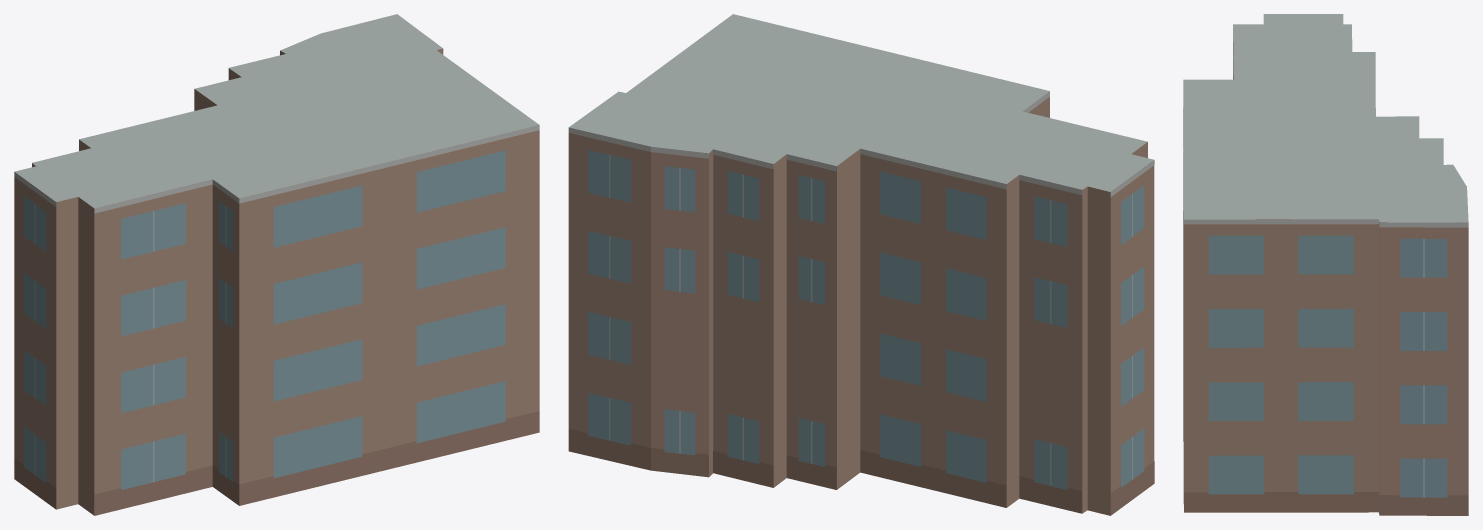
Rendered from survey-upis-32757484.glb.
The picture shows the model from 3 angles, left to right: view 1: azimuth 30°, elevation 25°; view 2: azimuth 150°, elevation 25°; view 3: azimuth 270°, elevation 25°; orthographic projection. The views are drawn at different scales.
Parts seen in each view (by area): view 1: survey-upis-32757484.tmp; view 2: survey-upis-32757484.tmp; view 3: survey-upis-32757484.tmp.
Boxes of the visible parts, x1,y1,x2,y2 form: survey-upis-32757484.tmp: (14, 14, 539, 515); survey-upis-32757484.tmp: (568, 14, 1154, 515); survey-upis-32757484.tmp: (1183, 14, 1468, 515).
Size of the model in its own units: 22.39 by 14.65 by 12.93.
